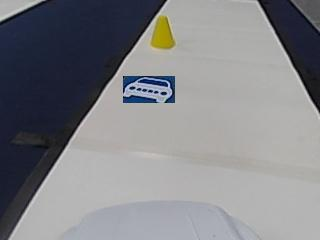cone: (150, 17, 175, 48)
